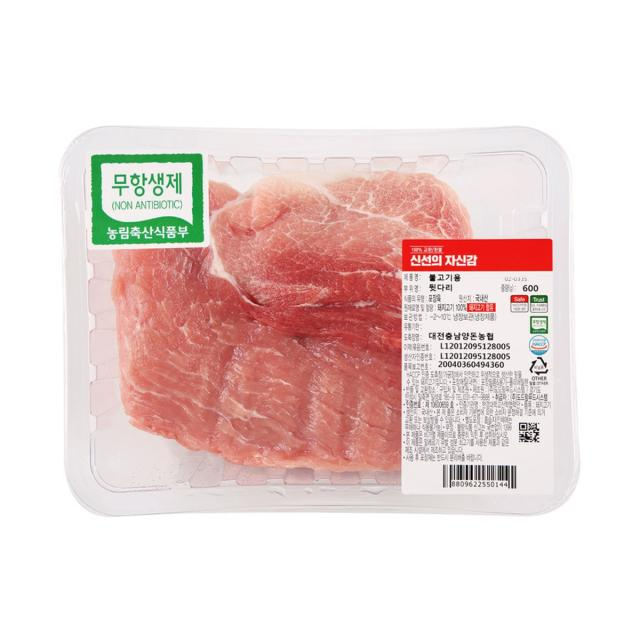pork: (40, 123, 588, 532)
